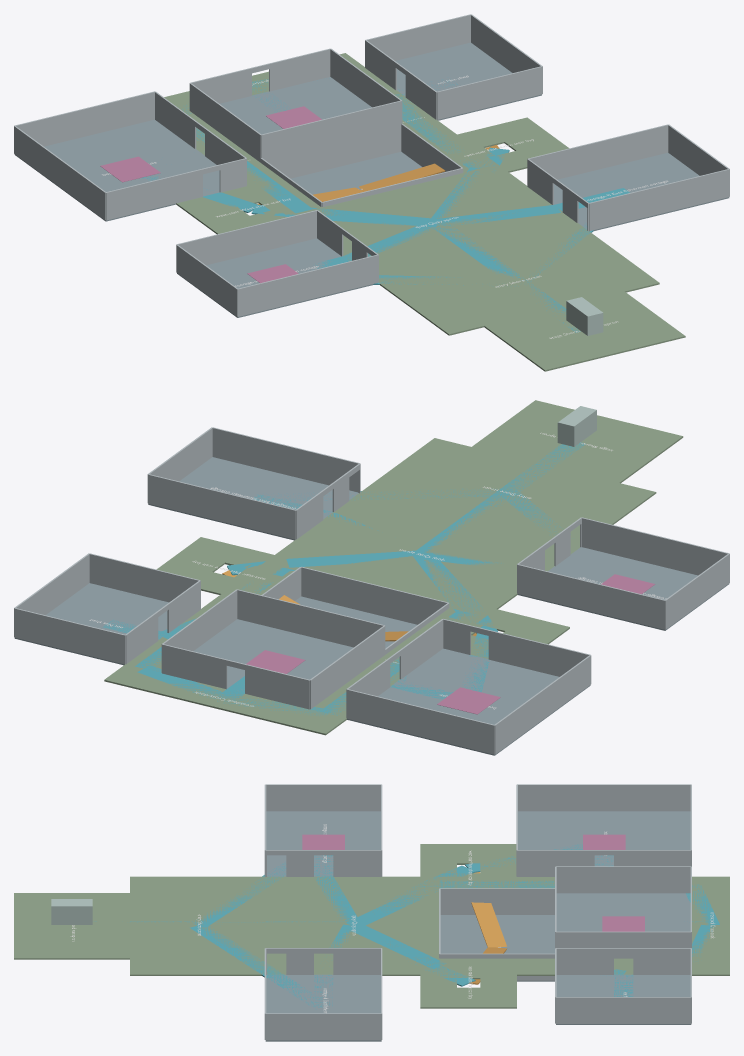
Rendered from rough-shell.glb.
3 views of the same model, one above another, from view 1: azimuth 30°, elevation 25°; view 2: azimuth 150°, elevation 25°; view 3: azimuth 270°, elevation 25° (orthographic). The views are drawn at different scales.
Parts seen in each view (by area): view 1: Floor entry, Floor quay, Floor stage, Floor boathouse, Wall cottage-a S, Wall cottage-b S, Wall fish S, Floor fish, Floor cottage-b, Wall cottage-b N, Wall boathouse N, Wall cottage-a N (+39 smaller); view 2: Floor quay, Floor entry, Floor stage, Floor boathouse, Floor fish, Floor crossdock, Wall cottage-a N, Wall boathouse N, Wall cottage-b N, Floor cottage-b, Wall cottage-b S, Wall fish S (+37 smaller); view 3: Floor quay, Floor entry, Floor stage, Floor boathouse, Wall boathouse W, Floor cottage-b, Floor cottage-a, Floor fish, Floor undercroft, Wall fish W, Wall net E, Floor crossdock (+34 smaller).
Part boxes in pixels (x1,y1,x2,y2): Floor entry: (378,231,659,335); Floor quay: (290,164,587,281); Floor stage: (484,291,685,371); Floor boathouse: (14,119,219,221); Wall cottage-a S: (237,254,378,316); Wall cottage-b S: (588,169,729,231); Wall fish S: (261,100,401,160); Floor fish: (220,77,371,134); Floor cottage-b: (554,153,729,230); Wall cottage-b N: (528,124,668,179); Wall boathouse N: (14,91,154,146); Wall cottage-a N: (176,210,316,265); Floor quay: (264,493,580,616); Floor entry: (360,438,656,545); Floor stage: (472,400,683,483); Floor boathouse: (347,648,590,755); Floor fish: (194,619,353,691); Floor crossdock: (104,664,346,735); Wall cottage-a N: (517,564,665,629); Wall boathouse N: (346,689,494,754); Wall cottage-b N: (148,474,295,539); Floor cottage-b: (148,457,358,540); Wall cottage-b S: (212,427,359,492); Wall fish S: (237,589,384,647); Floor quay: (265,876,439,975); Floor entry: (130,876,265,975); Floor stage: (14,893,129,959); Floor boathouse: (518,811,690,866); Wall boathouse W: (517,784,690,811); Floor cottage-b: (265,974,381,1041); Floor cottage-a: (266,811,380,876); Floor fish: (556,893,690,931); Floor undercroft: (440,915,554,981); Wall fish W: (556,866,690,893); Wall net E: (556,997,691,1023); Floor crossdock: (692,876,729,975).
Bounding box in the file's own units: 56.16 × 5.66 × 74.
